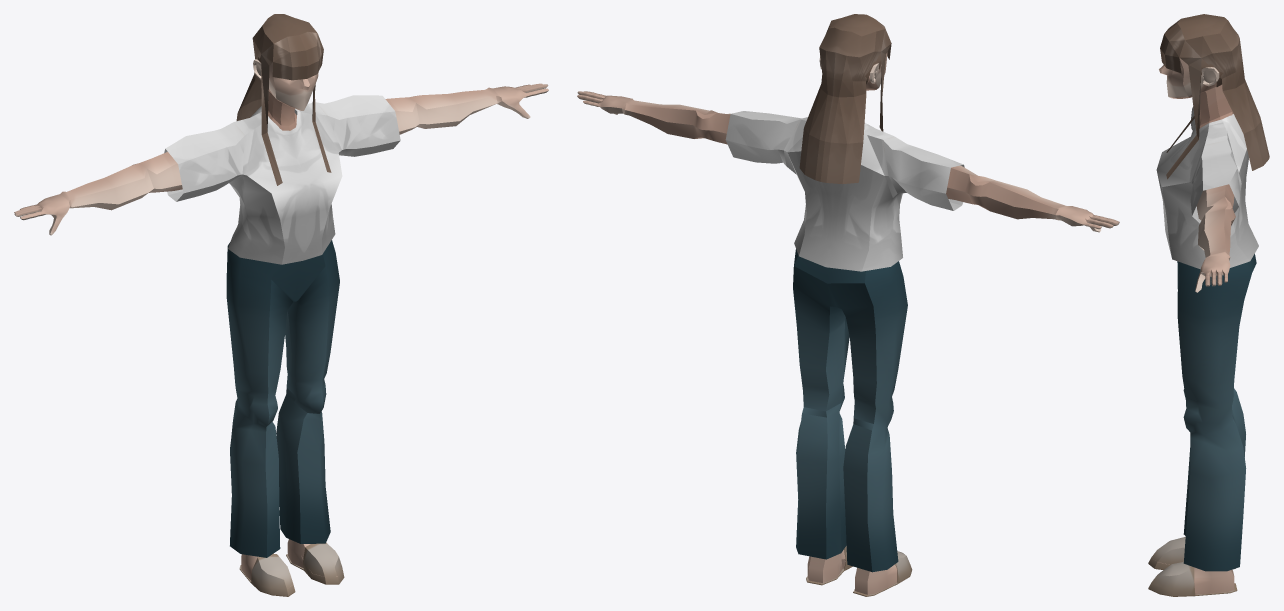
File: customer3.fbx
3 views of the same model, side by side, from view 1: azimuth 30°, elevation 25°; view 2: azimuth 150°, elevation 25°; view 3: azimuth 270°, elevation 25° (orthographic).
Parts seen in each view (by area): view 1: Box003; view 2: Box003; view 3: Box003.
Part boxes in pixels (x1,y1,x2,y2): Box003: [14, 14, 548, 596]; Box003: [577, 14, 1119, 596]; Box003: [1148, 14, 1269, 596].
Size of the model in its own units: 111 by 109 by 21.59.
